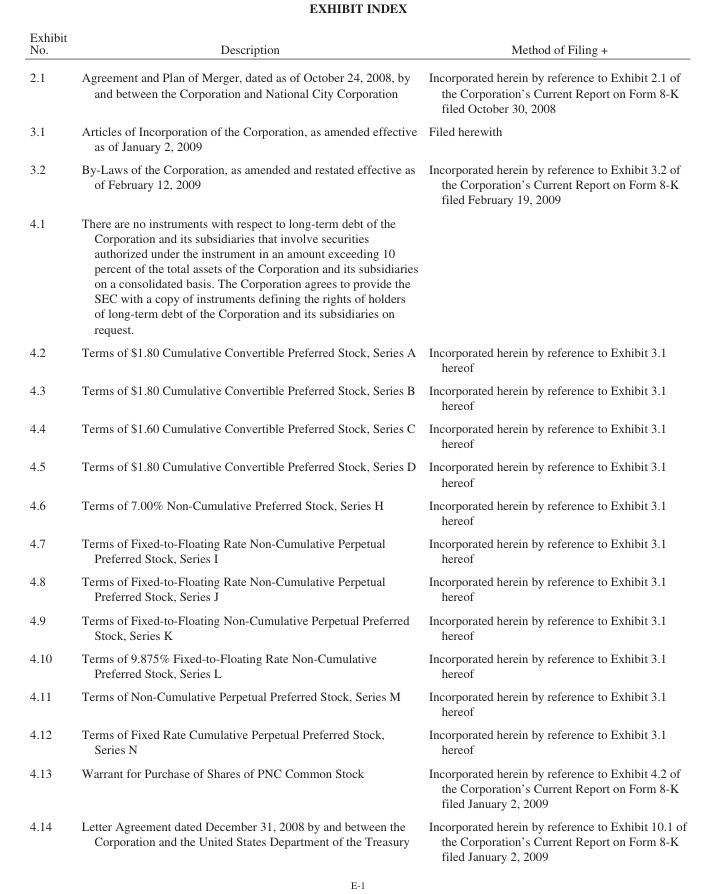table: (29, 29, 685, 863)
table column: (73, 29, 422, 863), (422, 29, 685, 863), (29, 29, 73, 863)
table column header: (29, 29, 685, 63)
table row: (29, 210, 685, 339), (29, 63, 685, 119), (29, 760, 685, 814), (29, 157, 685, 210), (29, 814, 685, 863), (29, 339, 685, 378), (29, 492, 685, 531), (29, 645, 685, 684), (29, 119, 685, 157), (29, 378, 685, 416), (29, 416, 685, 454), (29, 454, 685, 492), (29, 531, 685, 569), (29, 569, 685, 607), (29, 607, 685, 645), (29, 684, 685, 722), (29, 722, 685, 760), (29, 29, 685, 63)
